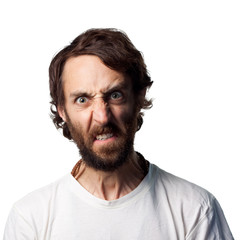young: (51, 31, 157, 173)
